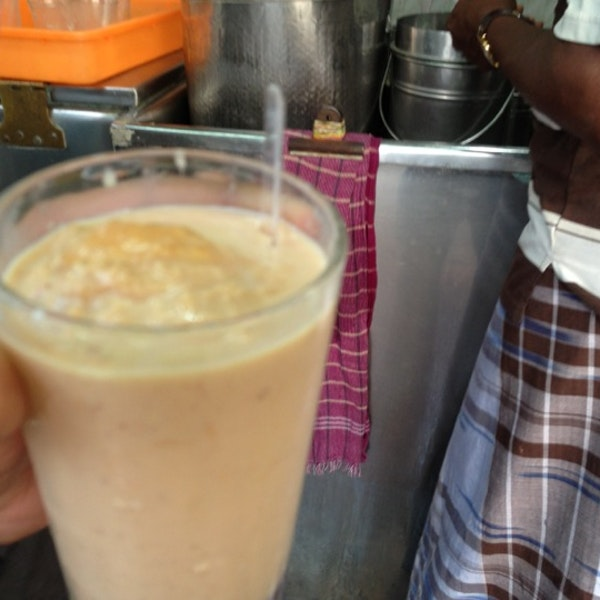jigirthanda: (21, 203, 301, 311)
